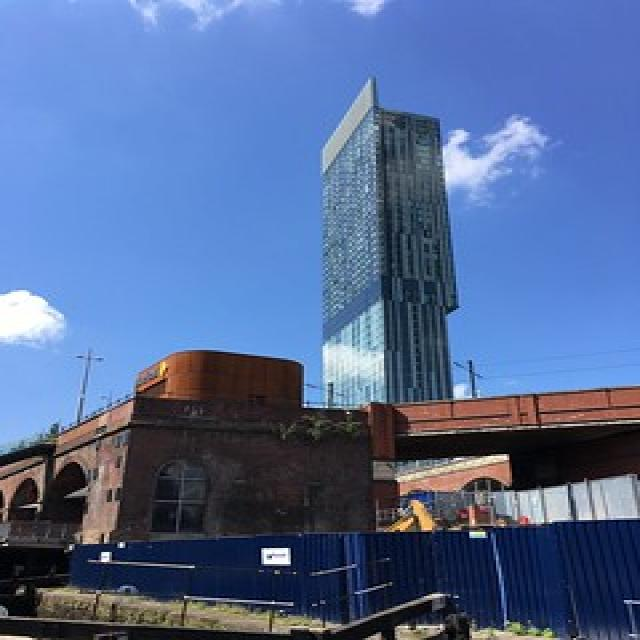building: (313, 72, 460, 420)
